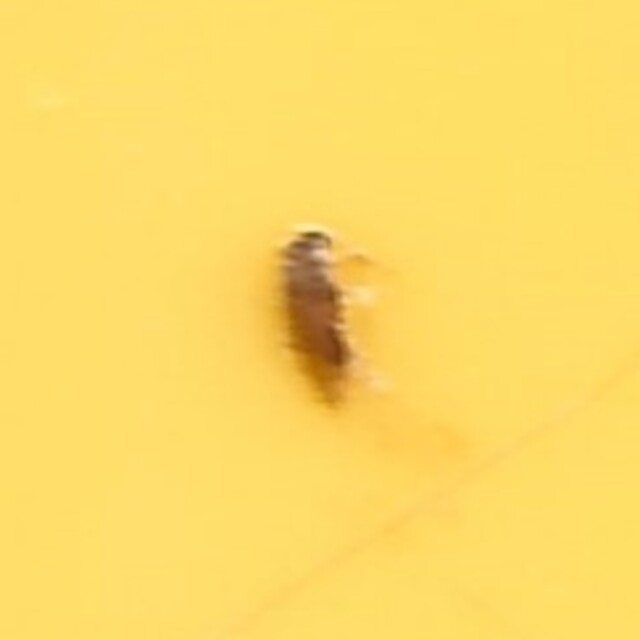Trichoptera: (263, 221, 377, 419)
